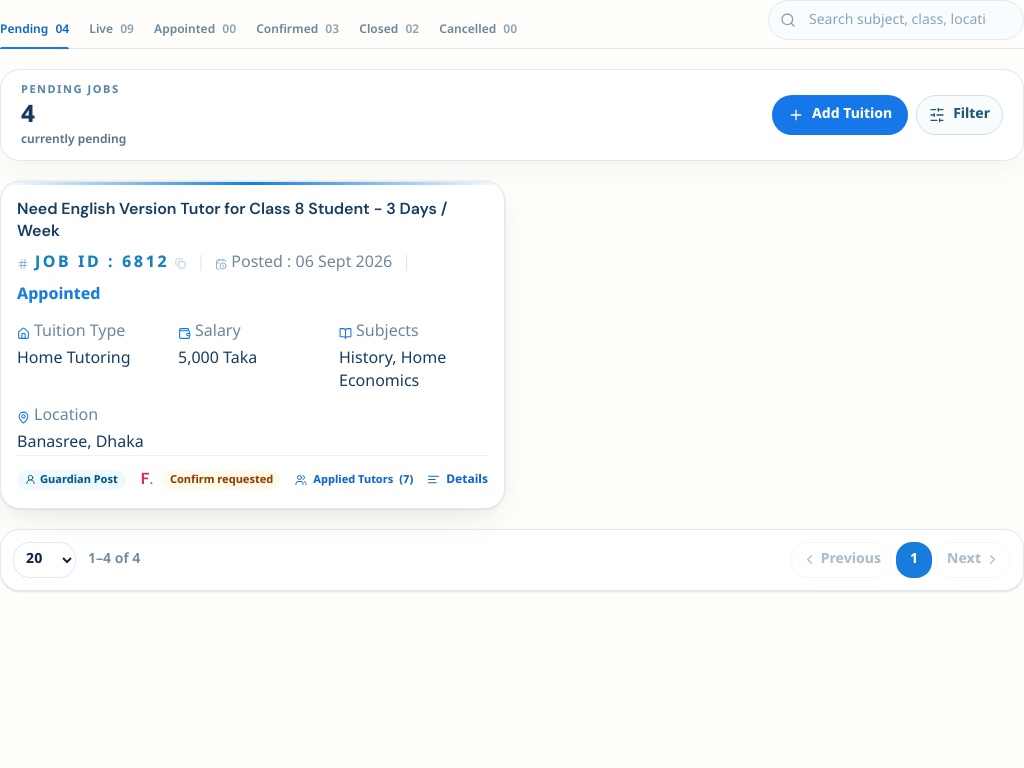
it: Admin Posted jobs board › only marks a Confirm or Remove request, which is answered on Applied Tutors
What coordinates should you click on to do the following:
click the button named "Job ID 6812"
I would click on:
 (252, 345)
Its box is x1=0 y1=181 x2=505 y2=509.
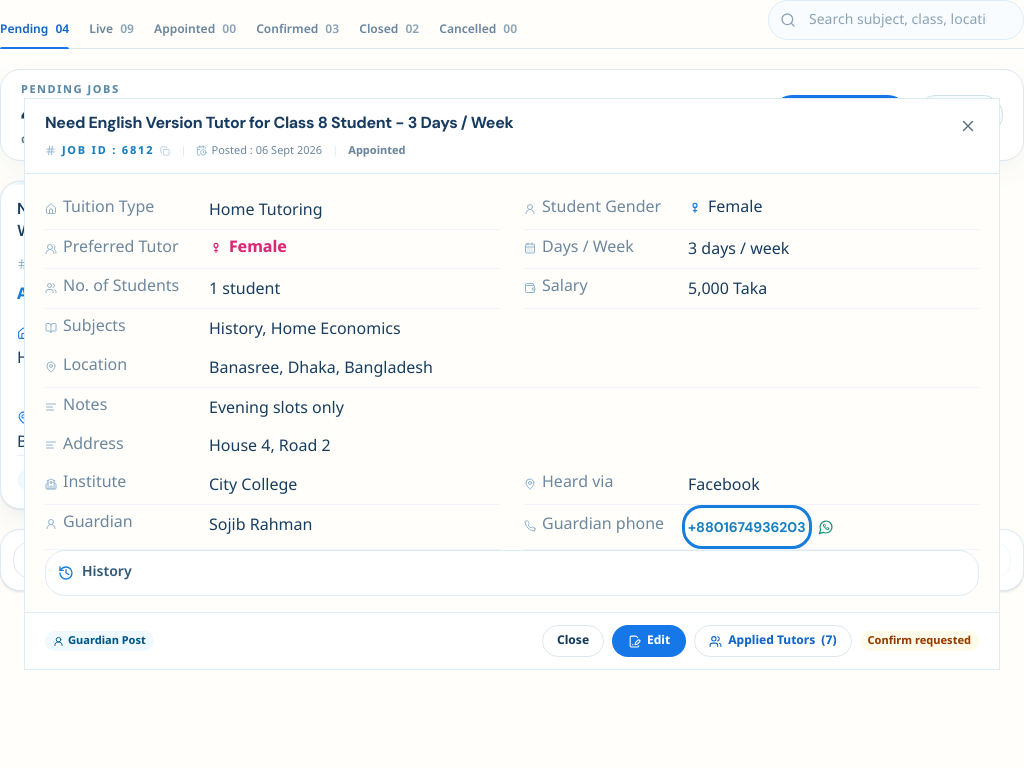
Expected: the text "Confirm requested" is shown, x1=860 y1=631 x2=979 y2=651
